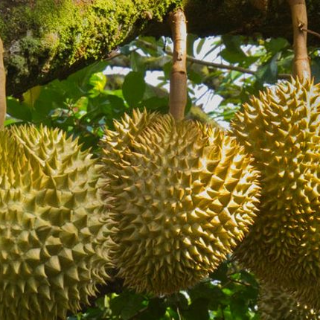sau_rieng: (95, 101, 264, 304)
